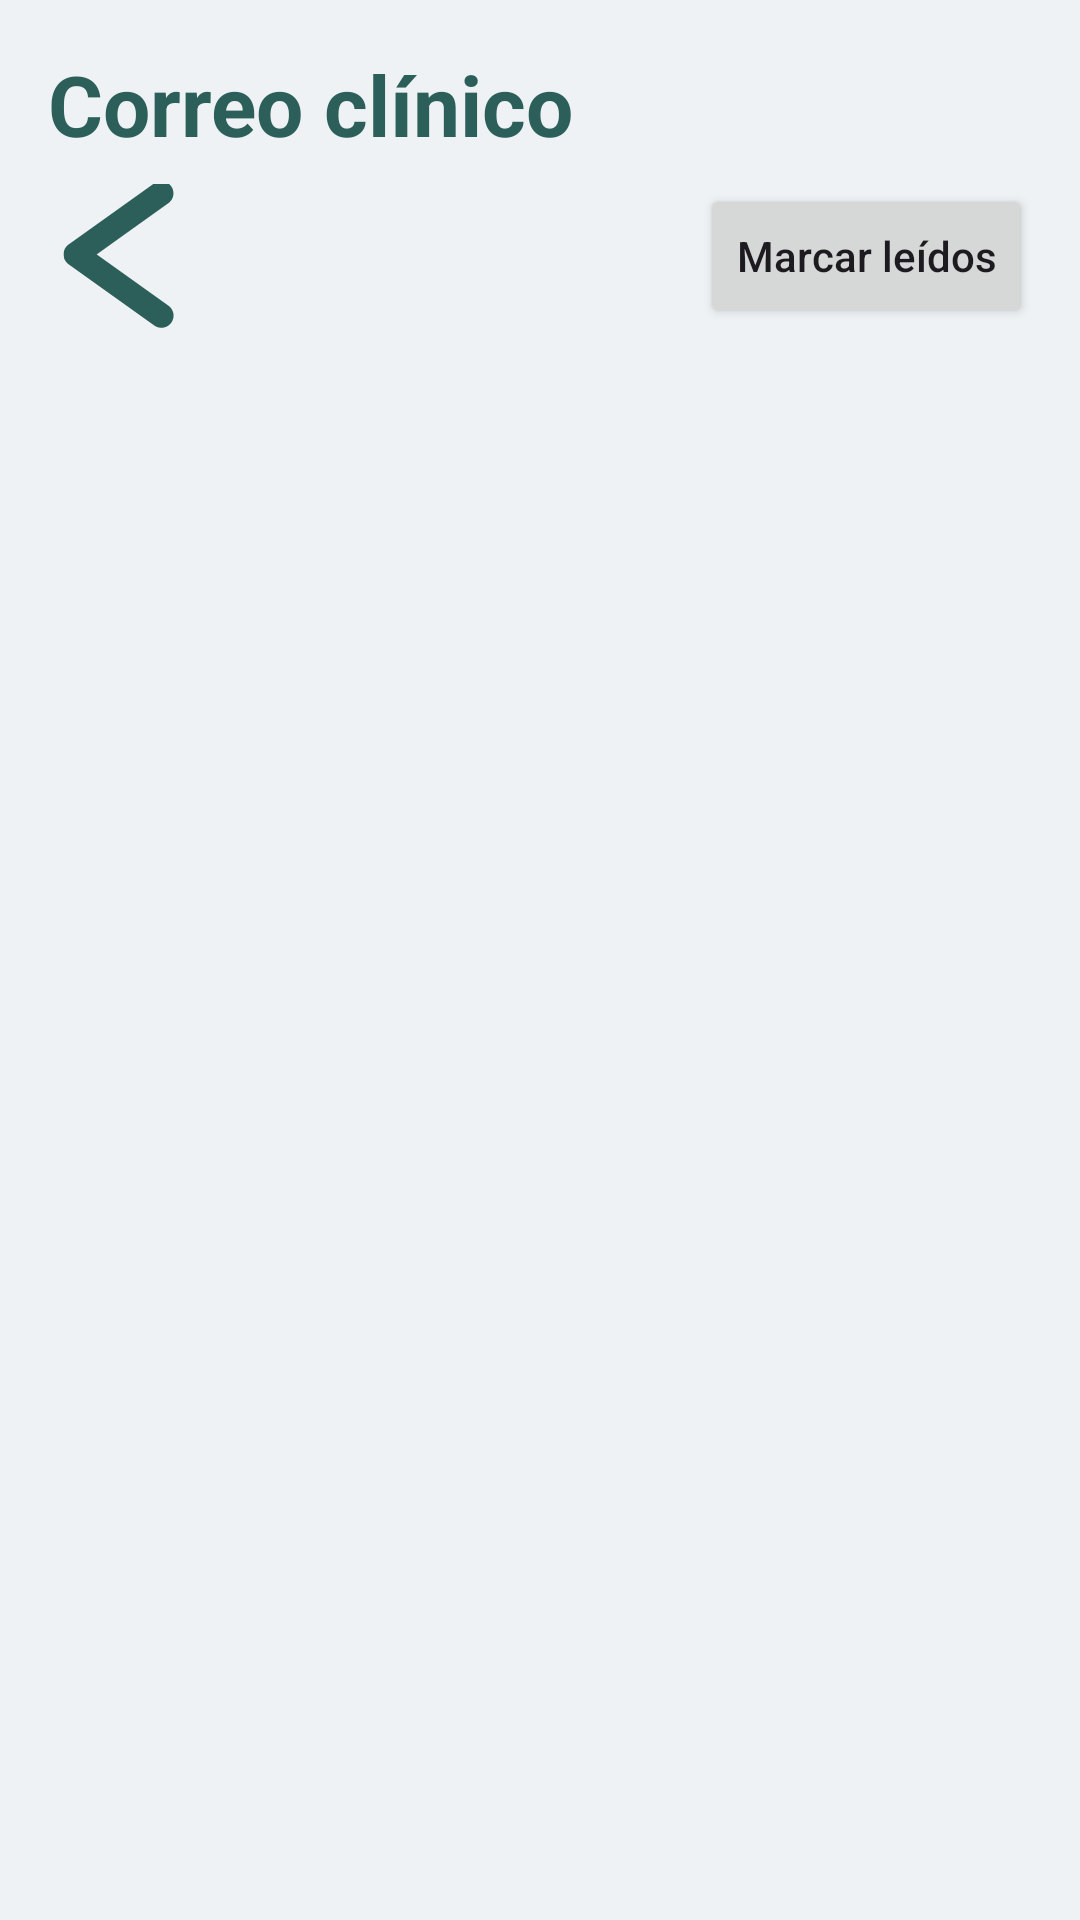

Named icons in this screenshot (1080px×1920px) and their bounding boxes, [x1, y1, x2, y2]:
Volver: [63, 184, 174, 328]
